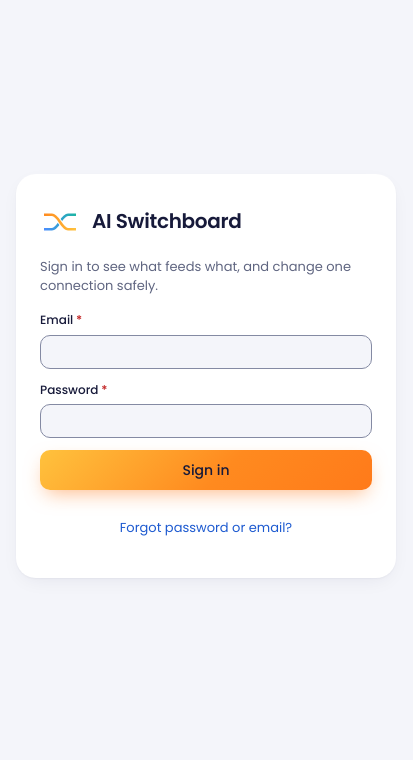
Test case: Login › names no email outside evaluation mode
Step 1. Click the button "Forgot password or email?" → [206, 528], box [112,506,300,550]
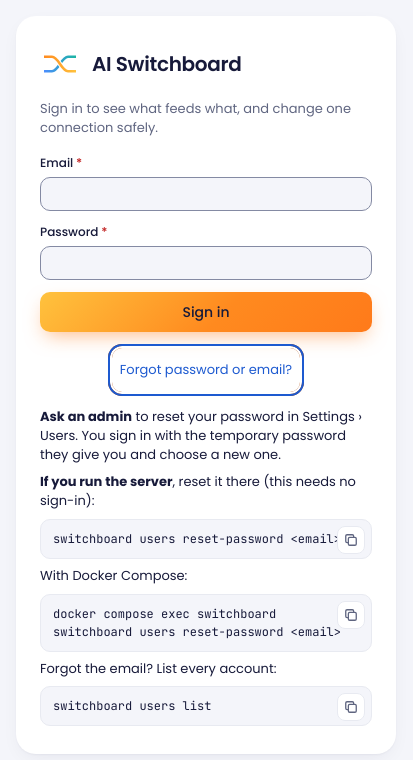
Check: the element named "Forgot password or email" does not show "Evaluation admin", box [40,408,372,726]
Check: the element named "Forgot password or email" shows "switchboard users reset-password <email>", box [53,531,341,547]
